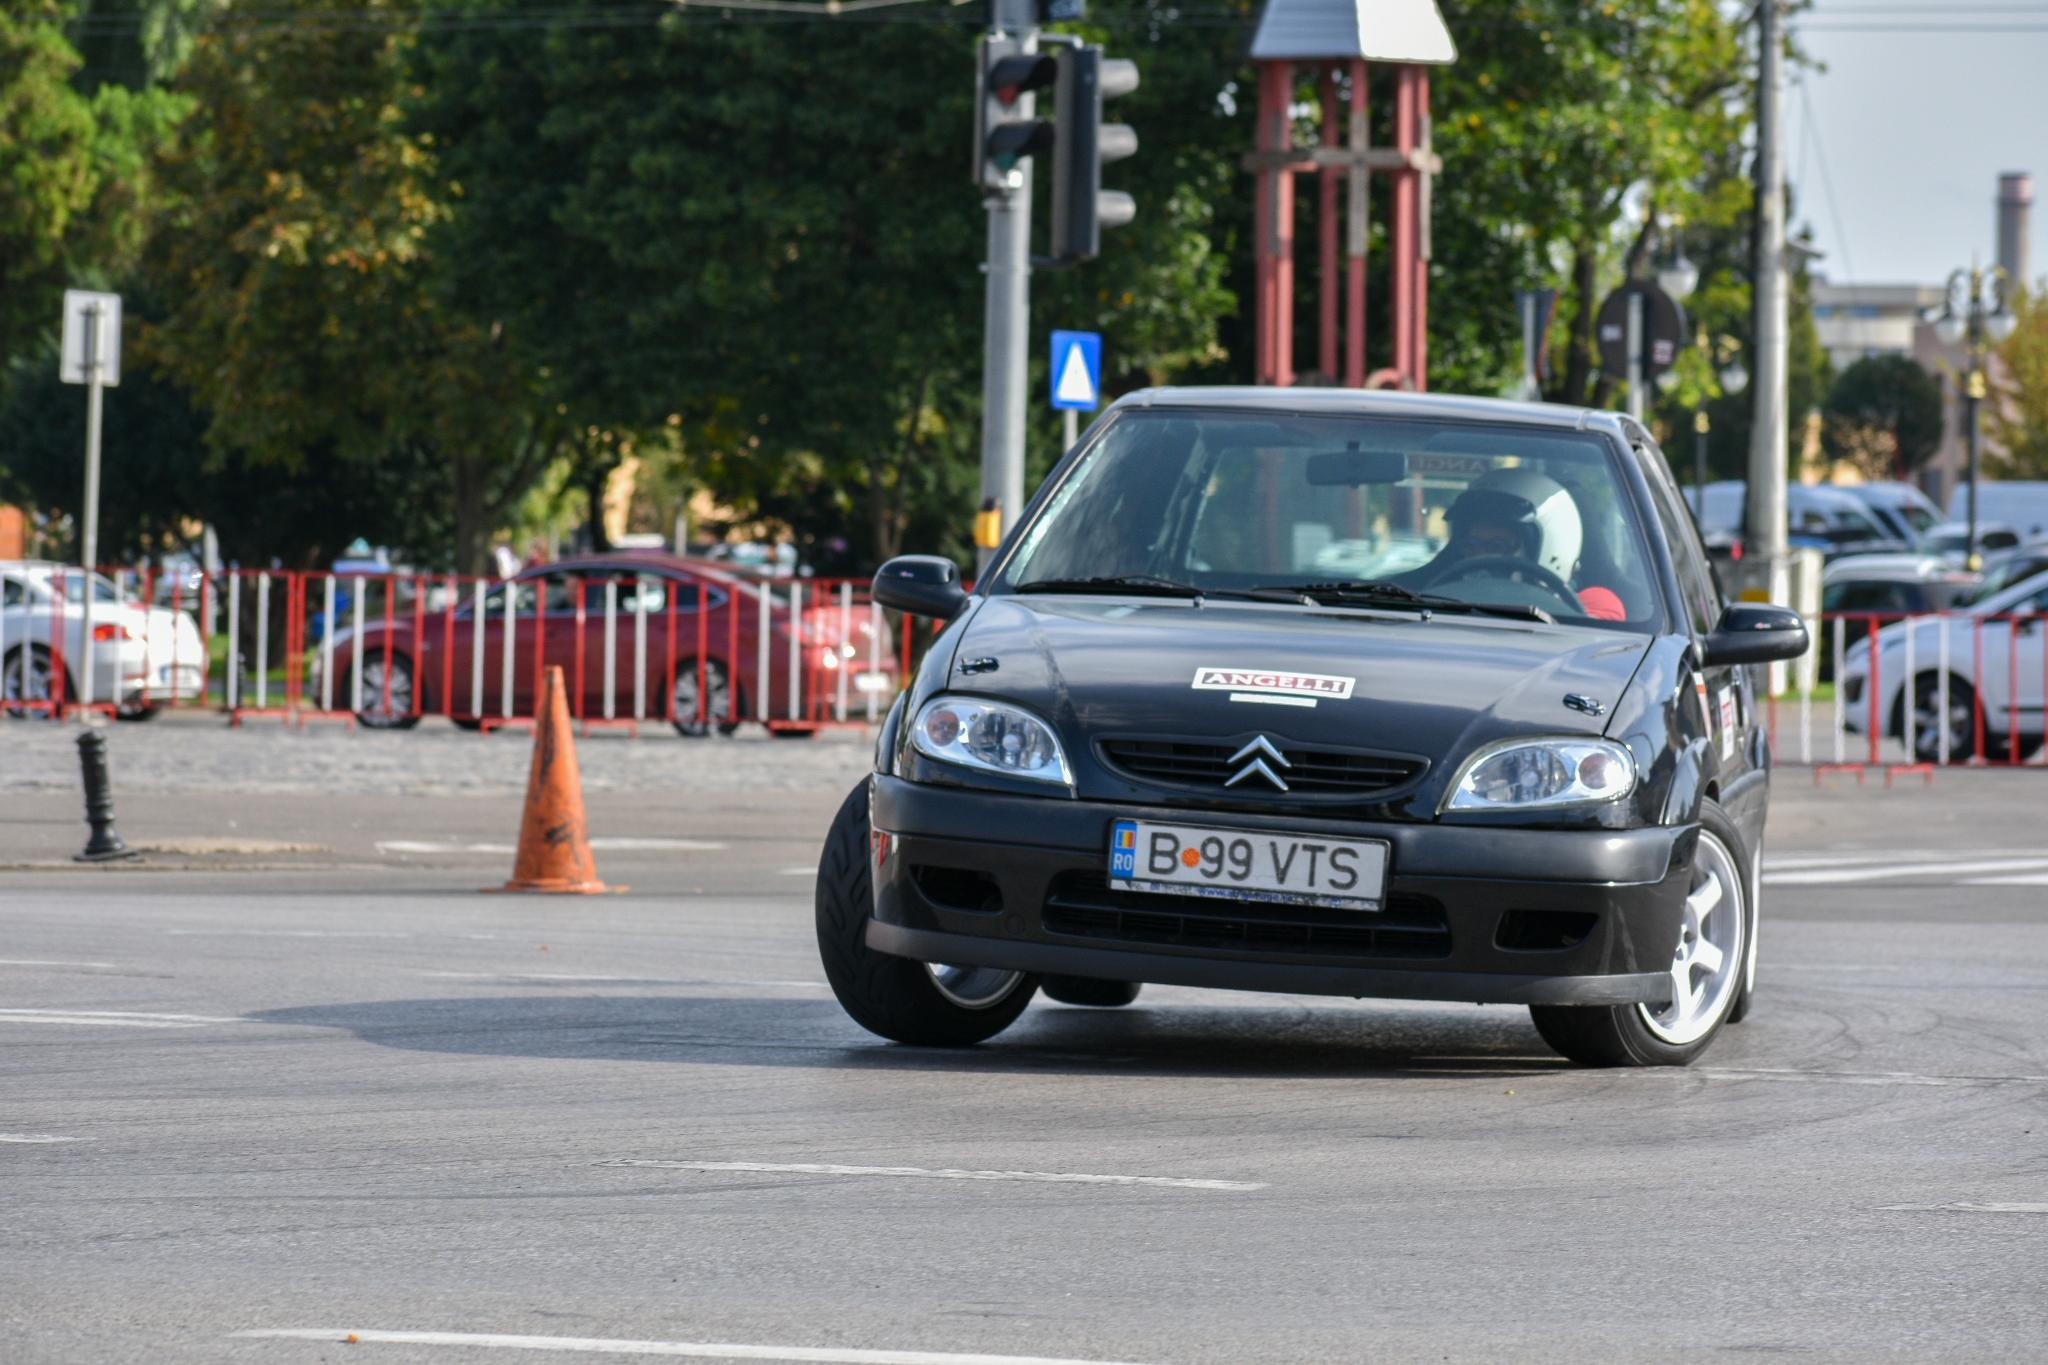Citroen: (1212, 710, 1317, 829)
